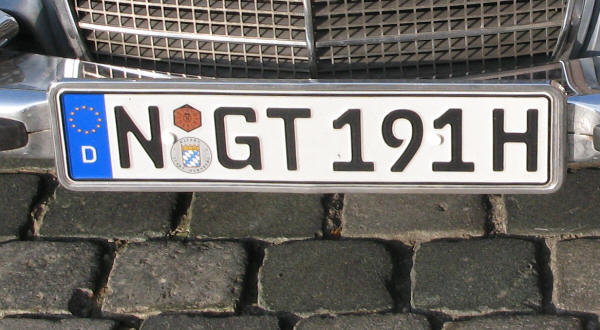license_plate: (61, 93, 553, 184)
